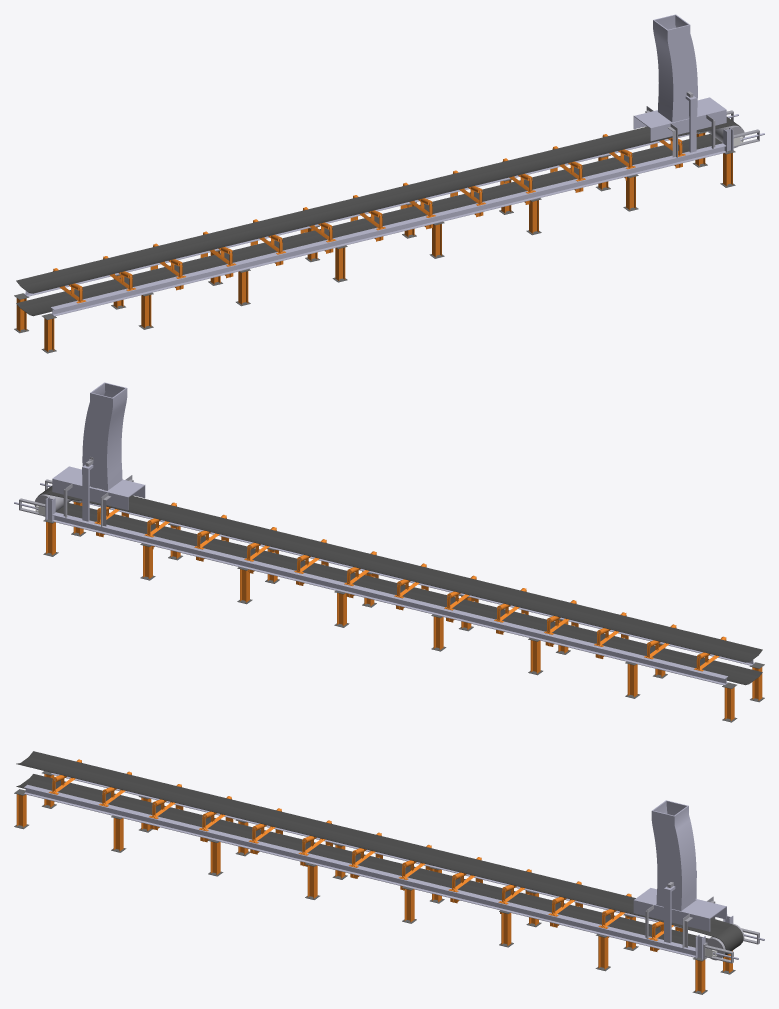
The picture shows the model from 3 angles, top to bottom: view 1: azimuth 30°, elevation 25°; view 2: azimuth 150°, elevation 25°; view 3: azimuth 330°, elevation 25°; orthographic projection.
Parts seen in each view (by area): view 1: 工字钢, 输送带-皮带侧面, 输送带-皮带, 下方输送带-皮带, 立方体, 下方输送带-皮带侧面, 平面, 工字钢.1; view 2: 工字钢, 输送带-皮带侧面, 输送带-皮带, 下方输送带-皮带, 立方体, 下方输送带-皮带侧面, 平面, 工字钢.1; view 3: 工字钢, 输送带-皮带侧面, 输送带-皮带, 下方输送带-皮带, 立方体, 工字钢.1 (×8), 下方输送带-皮带侧面, 平面, 输送带后部, 多边形.1.
Part boxes in pixels (<box>): 工字钢: <box>24,132,726,316</box>; 输送带-皮带侧面: <box>16,126,669,293</box>; 输送带-皮带: <box>16,133,669,293</box>; 下方输送带-皮带: <box>16,138,722,316</box>; 立方体: <box>653,14,697,122</box>; 下方输送带-皮带侧面: <box>16,134,711,315</box>; 平面: <box>633,97,726,141</box>; 工字钢.1: <box>16,298,54,351</box>; 工字钢: <box>52,501,754,685</box>; 输送带-皮带侧面: <box>109,495,762,662</box>; 输送带-皮带: <box>109,502,761,662</box>; 下方输送带-皮带: <box>56,507,762,685</box>; 立方体: <box>82,382,127,490</box>; 下方输送带-皮带侧面: <box>67,503,762,684</box>; 平面: <box>52,466,145,510</box>; 工字钢.1: <box>724,667,762,720</box>; 工字钢: <box>24,773,695,957</box>; 输送带-皮带侧面: <box>16,751,654,918</box>; 输送带-皮带: <box>16,757,652,919</box>; 下方输送带-皮带: <box>16,778,695,947</box>; 立方体: <box>651,800,696,910</box>; 工字钢.1 (×8): <box>16,774,732,993</box>; 下方输送带-皮带侧面: <box>16,774,708,940</box>; 平面: <box>633,888,726,931</box>; 输送带后部: <box>653,918,743,957</box>; 多边形.1: <box>664,870,696,942</box>.
Size of what is drawn, in the model's own units: 320 by 68.66 by 25.34.
